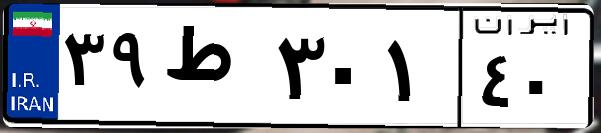0: (330, 28, 385, 110), (525, 38, 570, 115)
1: (385, 28, 445, 110)
3: (270, 28, 330, 110), (57, 26, 110, 100)
4: (475, 38, 525, 113)
9: (110, 28, 158, 98)
ط: (158, 20, 270, 120)
